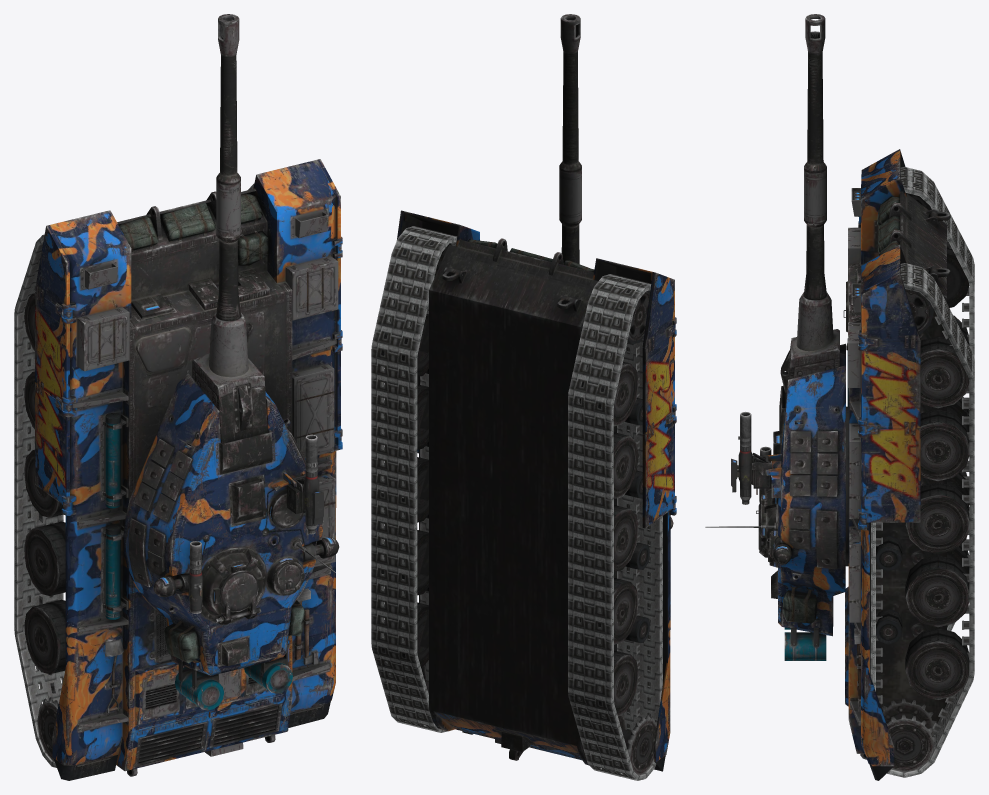
3 views of the same model, side by side, from view 1: azimuth 30°, elevation 25°; view 2: azimuth 150°, elevation 25°; view 3: azimuth 270°, elevation 25° (orthographic). The views are drawn at different scales.
Parts seen in each view (by area): view 1: hull_nc, hull, turret_01, turret_01_nc, chassis_track_L, gun_01, gun_01_mask, chassis_wheel_L_08, chassis_wheel_L_10, chassis_wheel_L_06, chassis_wheel_L_11; view 2: hull, chassis_track_L, chassis_track_R, hull_nc, gun_01, chassis_wheel_L_11, chassis_wheel_L_04, chassis_wheel_L_06, chassis_wheel_L_08, chassis_wheel_L_10, chassis_wheel_L_02, chassis_wheel_L_01 (+4 smaller); view 3: hull, hull_nc, turret_01, turret_01_nc, chassis_track_R, gun_01, chassis_wheel_R_08, chassis_wheel_R_10, chassis_wheel_R_06, gun_01_mask, chassis_wheel_R_04, chassis_wheel_R_11 (+6 smaller).
Boxes of the visible parts, bbox=[...] form: hull_nc: bbox=[37, 160, 342, 780]; hull: bbox=[35, 159, 340, 771]; turret_01: bbox=[123, 373, 339, 675]; turret_01_nc: bbox=[128, 418, 335, 710]; chassis_track_L: bbox=[14, 234, 64, 767]; gun_01: bbox=[216, 14, 240, 320]; gun_01_mask: bbox=[192, 312, 267, 443]; chassis_wheel_L_08: bbox=[24, 521, 65, 595]; chassis_wheel_L_10: bbox=[24, 599, 65, 674]; chassis_wheel_L_06: bbox=[24, 449, 62, 517]; chassis_wheel_L_11: bbox=[37, 697, 58, 761]; hull: bbox=[393, 210, 674, 765]; chassis_track_L: bbox=[568, 274, 662, 780]; chassis_track_R: bbox=[371, 226, 457, 732]; hull_nc: bbox=[403, 211, 676, 771]; gun_01: bbox=[559, 14, 581, 263]; chassis_wheel_L_11: bbox=[596, 714, 656, 775]; chassis_wheel_L_04: bbox=[613, 432, 638, 498]; chassis_wheel_L_06: bbox=[579, 505, 638, 571]; chassis_wheel_L_08: bbox=[579, 578, 638, 644]; chassis_wheel_L_10: bbox=[580, 650, 638, 716]; chassis_wheel_L_02: bbox=[579, 361, 638, 426]; chassis_wheel_L_01: bbox=[601, 289, 650, 344]; hull: bbox=[848, 149, 946, 753]; hull_nc: bbox=[843, 150, 950, 780]; turret_01: bbox=[758, 343, 848, 636]; turret_01_nc: bbox=[705, 353, 845, 660]; chassis_track_R: bbox=[870, 263, 974, 777]; gun_01: bbox=[803, 14, 826, 300]; chassis_wheel_R_08: bbox=[905, 555, 969, 627]; chassis_wheel_R_10: bbox=[905, 628, 969, 699]; chassis_wheel_R_06: bbox=[905, 482, 969, 554]; gun_01_mask: bbox=[784, 292, 839, 408]; chassis_wheel_R_04: bbox=[920, 409, 969, 481]; chassis_wheel_R_11: bbox=[882, 698, 937, 772].
Size of the model in its own units: 3.75 by 9.74 by 3.35.
2 materials, 2 textured.
